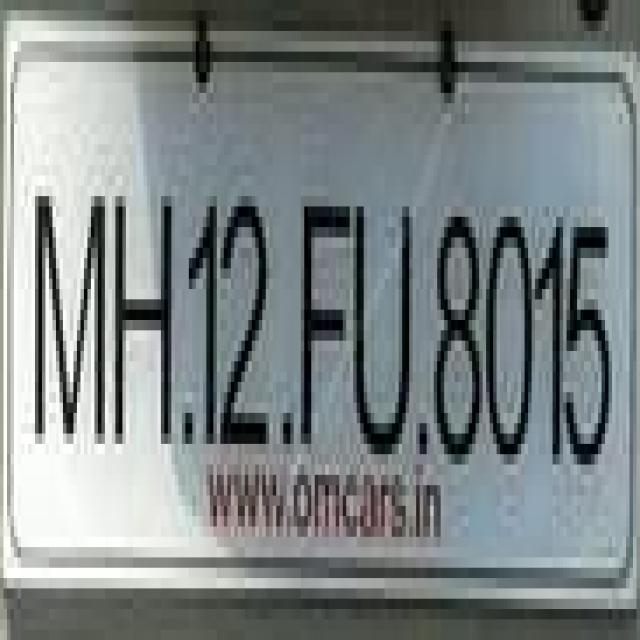plate: (4, 31, 608, 588)
